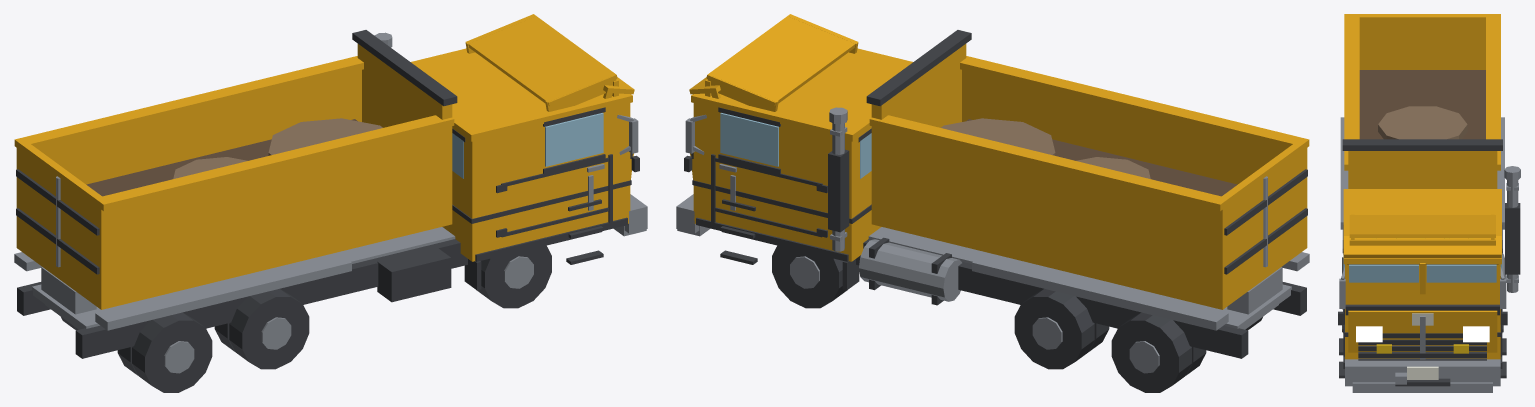
Rendered from dump_truck.glb.
3 views of the same model, side by side, from view 1: azimuth 30°, elevation 25°; view 2: azimuth 150°, elevation 25°; view 3: azimuth 270°, elevation 25° (orthographic). The views are drawn at different scales.
Parts seen in each view (by area): view 1: DumpTruck_Bed, DumpTruck_Base, DumpTruck_Dirt; view 2: DumpTruck_Bed, DumpTruck_Base, DumpTruck_Dirt; view 3: DumpTruck_Base, DumpTruck_Bed, DumpTruck_Dirt.
Boxes of the visible parts, x1,y1,x2,y2 form: DumpTruck_Bed: [14, 30, 457, 314]; DumpTruck_Base: [14, 14, 647, 392]; DumpTruck_Dirt: [86, 118, 382, 196]; DumpTruck_Bed: [866, 30, 1309, 314]; DumpTruck_Base: [676, 14, 1309, 392]; DumpTruck_Dirt: [941, 118, 1237, 196]; DumpTruck_Base: [1338, 117, 1520, 392]; DumpTruck_Bed: [1342, 14, 1502, 188]; DumpTruck_Dirt: [1359, 70, 1485, 139].
Size of the model in its own units: 8.99 by 3.5 by 2.87.
